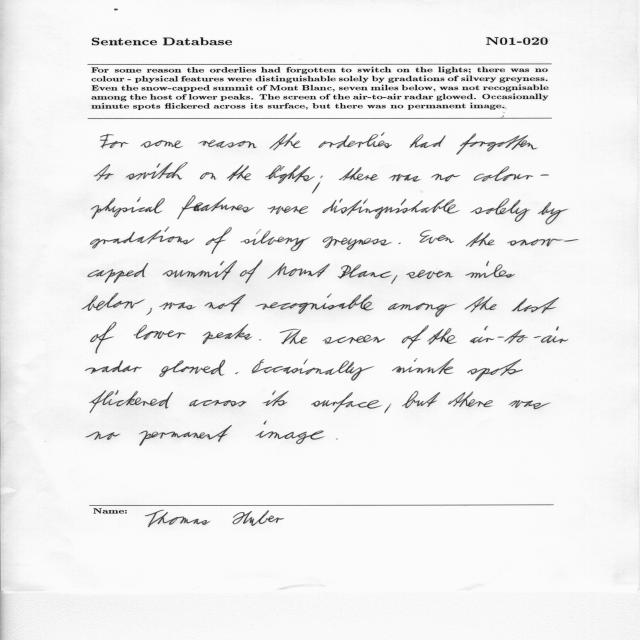word: (322, 198, 460, 219), (252, 359, 374, 381), (255, 293, 374, 314), (90, 227, 195, 248), (139, 425, 232, 446), (89, 390, 173, 413), (177, 196, 255, 220), (457, 133, 538, 155), (470, 326, 569, 343), (91, 197, 165, 219), (241, 229, 310, 251), (163, 260, 237, 280), (470, 198, 530, 222), (311, 392, 381, 412), (467, 359, 523, 381), (88, 263, 148, 283), (318, 133, 392, 149), (82, 293, 145, 311), (159, 360, 225, 377), (126, 162, 188, 180), (268, 263, 330, 279), (392, 359, 454, 375), (203, 324, 252, 344), (323, 236, 392, 250), (265, 165, 315, 184), (474, 166, 533, 182), (388, 303, 455, 317), (256, 431, 324, 444), (465, 261, 515, 278), (91, 322, 117, 353), (86, 360, 143, 374), (338, 264, 391, 279), (134, 325, 186, 340), (512, 298, 560, 314), (204, 294, 246, 312), (205, 227, 232, 254), (448, 391, 493, 407), (538, 202, 568, 224), (402, 325, 429, 349), (402, 391, 440, 408), (269, 133, 301, 151), (507, 239, 579, 247), (323, 335, 385, 344), (339, 167, 378, 181), (464, 297, 497, 313), (427, 328, 457, 345), (240, 260, 262, 283), (410, 134, 446, 148), (198, 140, 257, 148), (420, 230, 454, 243), (100, 134, 129, 149), (407, 270, 454, 279), (466, 232, 494, 247), (263, 391, 289, 407), (189, 400, 247, 407), (280, 329, 307, 344), (226, 165, 251, 181), (509, 400, 551, 409), (94, 164, 114, 181), (141, 140, 183, 148), (268, 206, 308, 214), (87, 431, 121, 440), (159, 302, 196, 310), (389, 174, 421, 182), (431, 174, 460, 182), (312, 176, 323, 194), (200, 172, 217, 180), (391, 275, 398, 284), (384, 404, 391, 413), (146, 308, 152, 315), (540, 174, 549, 176), (264, 421, 267, 425), (235, 372, 239, 374), (398, 243, 401, 244), (259, 340, 261, 341)
